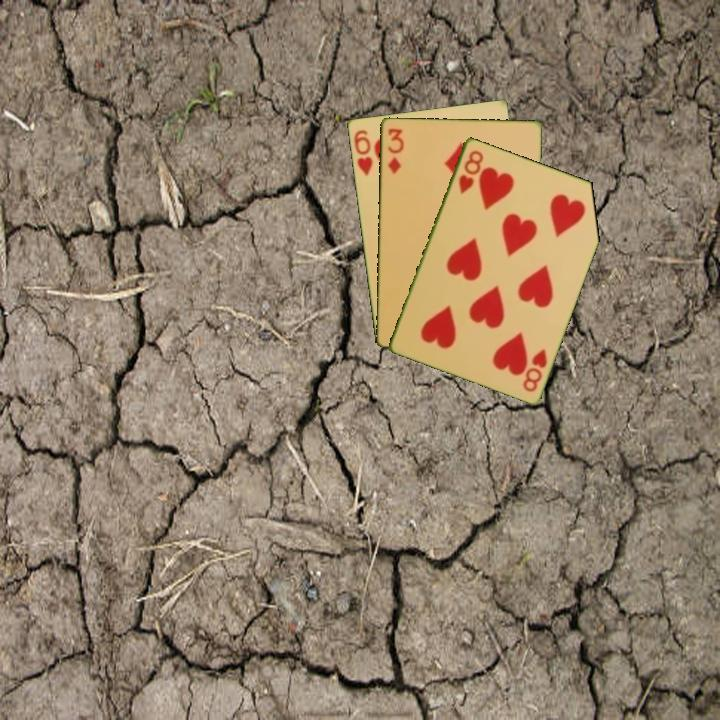3d: (384, 125, 406, 177)
6h: (350, 126, 375, 178)
8h: (455, 146, 486, 196), (519, 345, 550, 395)
